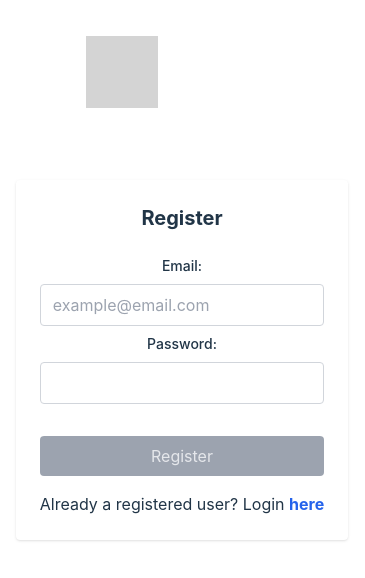
Test case: RegisterLogin Component › Login success/error › displays a prompt to complete CloudFlare Turnstile verification
The image size is (365, 578).
Step 1. Click the link "here" → (307, 504), box [289,494,324,514]
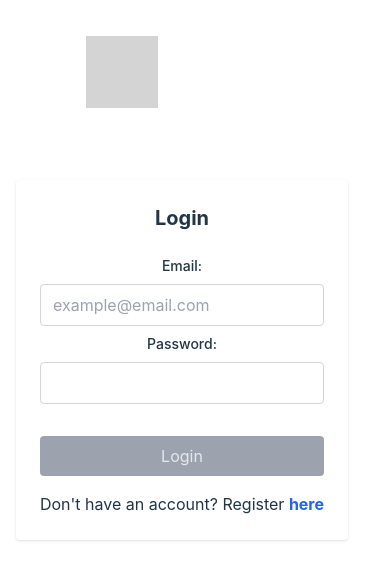
Now the heading "Login" is shown, box [155,206,209,230]
Step 2. Type "test@example.com" into the field labelled "Email:" → (182, 305), box [40,284,324,326]
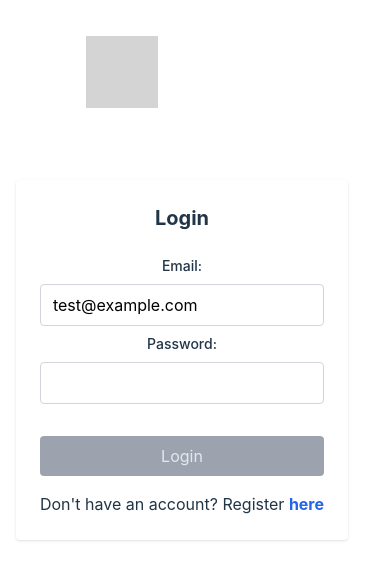
Step 3. Type "password123" into the password field labelled "Password:" → (182, 383), box [40,362,324,404]
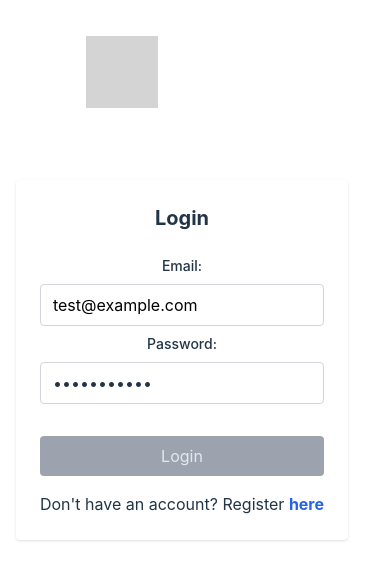
Step 4. Click the button "Login" → (182, 456), box [40,436,324,476]
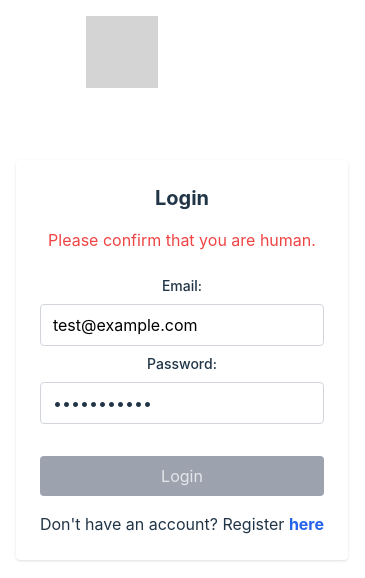
Now the text "Please confirm that you are human." is shown, box [40,228,324,252]
